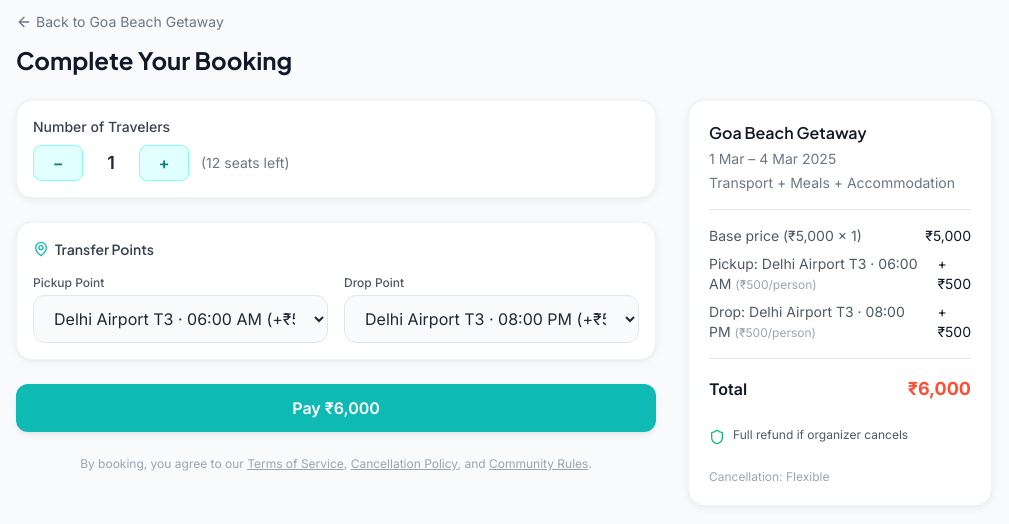
Test: BookingPage › should show "Already Booked" only for a genuine duplicate booking conflict
Click the button "Pay ₹6,000" at [336, 408], box x1=16 y1=384 x2=656 y2=432
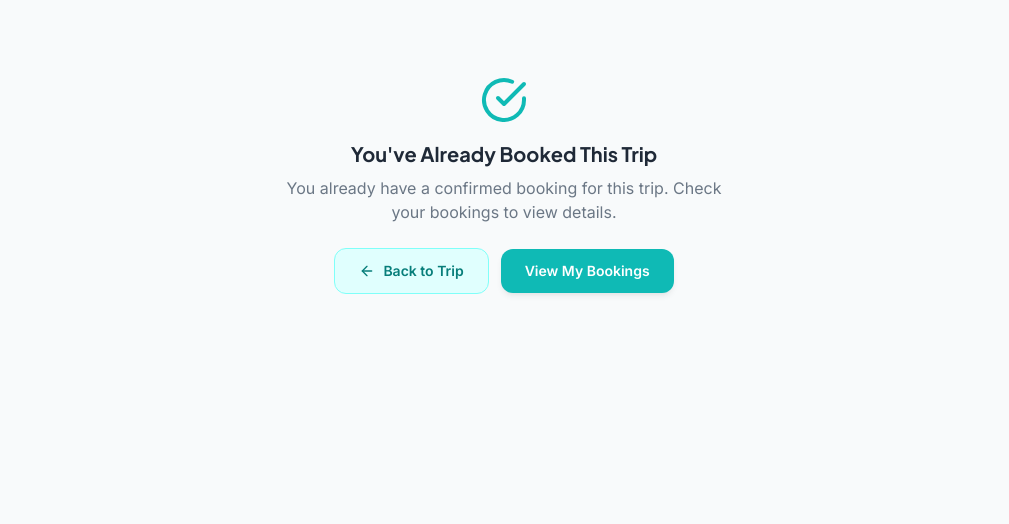
Expected: the heading "You've Already Booked This Trip" is shown, x1=351 y1=141 x2=657 y2=166
